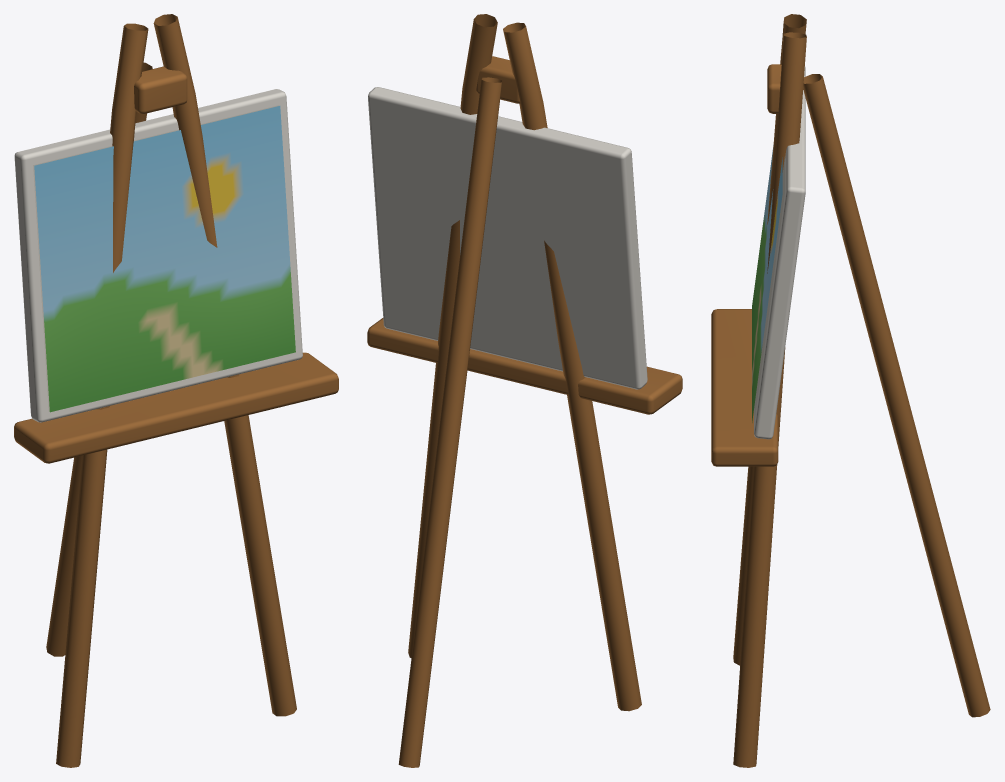
The model's file is furn_easel.glb.
3 views of the same model, side by side, from view 1: azimuth 30°, elevation 25°; view 2: azimuth 150°, elevation 25°; view 3: azimuth 270°, elevation 25° (orthographic). The views are drawn at different scales.
Parts seen in each view (by area): view 1: furn_easel_main; view 2: furn_easel_main; view 3: furn_easel_main.
Boxes of the visible parts, x1,y1,x2,y2 form: furn_easel_main: [14, 14, 338, 767]; furn_easel_main: [367, 14, 682, 767]; furn_easel_main: [711, 14, 990, 767].
Bounding box in the file's own units: 0.6 × 1.36 × 0.4994.
